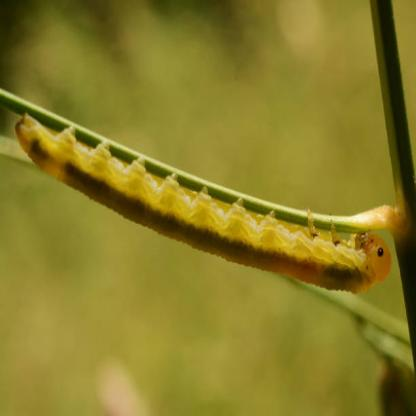sawfly: (9, 97, 396, 302)
